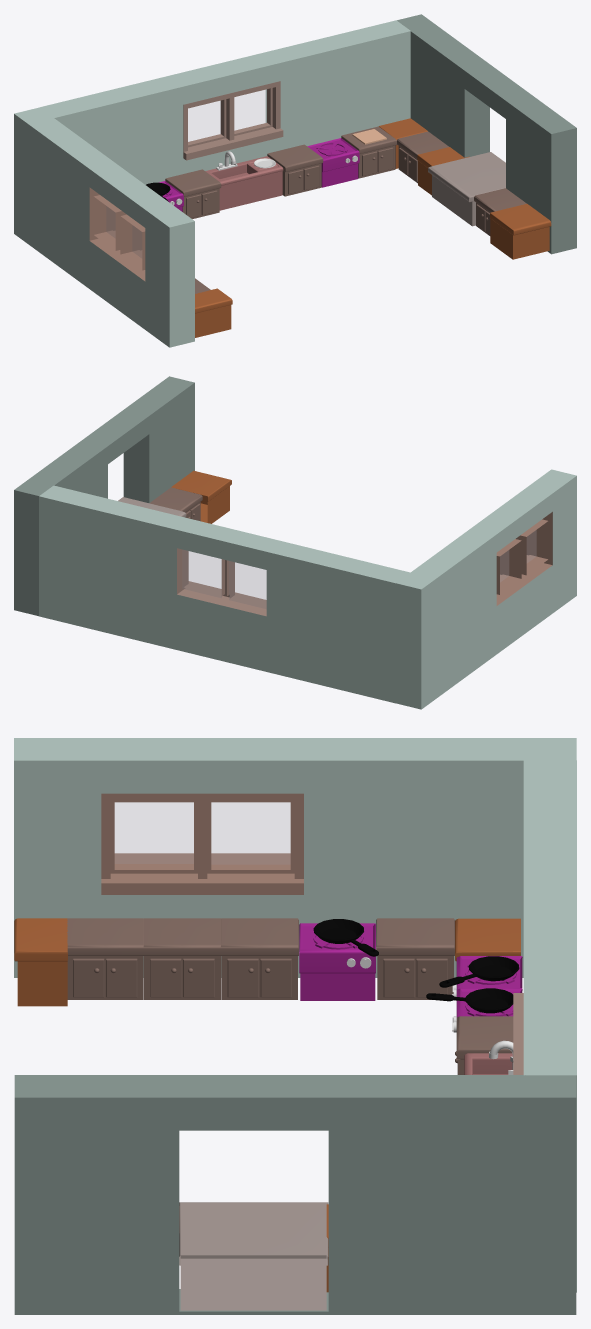
File: KitchenexportforUnity.fbx
3 renders of one model, top to bottom at view 1: azimuth 30°, elevation 25°; view 2: azimuth 150°, elevation 25°; view 3: azimuth 270°, elevation 25°, orthographic. The views are drawn at different scales.
Parts seen in each view (by area): view 1: pCube12, pCube18, pCube15, polySurface1, polySurface14, polySurface46, polySurface15, polySurface9, pSphere13, pSphere3, polySurface44, pSphere14 (+7 smaller); view 2: pCube12, pCube18, pCube15, polySurface46, polySurface1, polySurface15, pCube20, pCube19, pSphere16; view 3: pCube15, pCube18, pCube12, polySurface14, polySurface46, pSphere18, pSphere19, pSphere20, pSphere17, pCube21, pCube22, polySurface45 (+10 smaller).
Part boxes in pixels (x1=…): pCube12: x1=40, y1=20, x2=410, y2=184; pCube18: x1=14, y1=107, x2=194, y2=347; pCube15: x1=397, y1=14, x2=576, y2=254; polySurface1: x1=183, y1=81, x2=283, y2=160; polySurface14: x1=428, y1=152, x2=505, y2=226; polySurface46: x1=89, y1=187, x2=145, y2=281; polySurface15: x1=490, y1=204, x2=551, y2=259; polySurface9: x1=205, y1=156, x2=283, y2=210; pSphere13: x1=267, y1=144, x2=323, y2=196; pSphere3: x1=165, y1=169, x2=221, y2=218; polySurface44: x1=307, y1=138, x2=359, y2=187; pSphere14: x1=341, y1=126, x2=396, y2=178; pCube12: x1=39, y1=485, x2=410, y2=703; pCube18: x1=396, y1=469, x2=576, y2=709; pCube15: x1=14, y1=376, x2=194, y2=616; polySurface46: x1=496, y1=512, x2=552, y2=605; polySurface1: x1=177, y1=548, x2=266, y2=616; polySurface15: x1=171, y1=470, x2=231, y2=523; pCube20: x1=182, y1=550, x2=221, y2=597; pCube19: x1=229, y1=561, x2=266, y2=608; pSphere16: x1=150, y1=487, x2=202, y2=521; pCube15: x1=14, y1=1075, x2=576, y2=1314; pCube18: x1=14, y1=738, x2=576, y2=977; pCube12: x1=523, y1=760, x2=576, y2=1292; polySurface14: x1=179, y1=1202, x2=328, y2=1310; polySurface46: x1=101, y1=793, x2=303, y2=894; pSphere18: x1=220, y1=918, x2=298, y2=999; pSphere19: x1=143, y1=918, x2=221, y2=999; pSphere20: x1=67, y1=918, x2=144, y2=999; pSphere17: x1=376, y1=918, x2=454, y2=999; pCube21: x1=211, y1=802, x2=290, y2=864; pCube22: x1=115, y1=802, x2=193, y2=863; polySurface45: x1=299, y1=923, x2=375, y2=1000.
Size of the model in its own units: 22.06 by 6.21 by 14.58.
